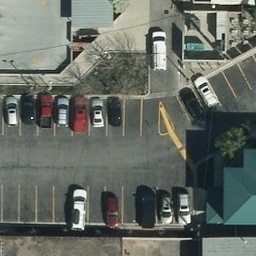car: (194, 71, 220, 106), (68, 187, 88, 229), (137, 189, 155, 228), (71, 97, 88, 134), (152, 31, 167, 69), (180, 90, 201, 117), (106, 95, 124, 126), (89, 98, 107, 129), (54, 97, 72, 128), (35, 96, 53, 127), (157, 191, 173, 223), (176, 190, 192, 222), (104, 197, 119, 227), (4, 96, 18, 128), (20, 94, 33, 125)
